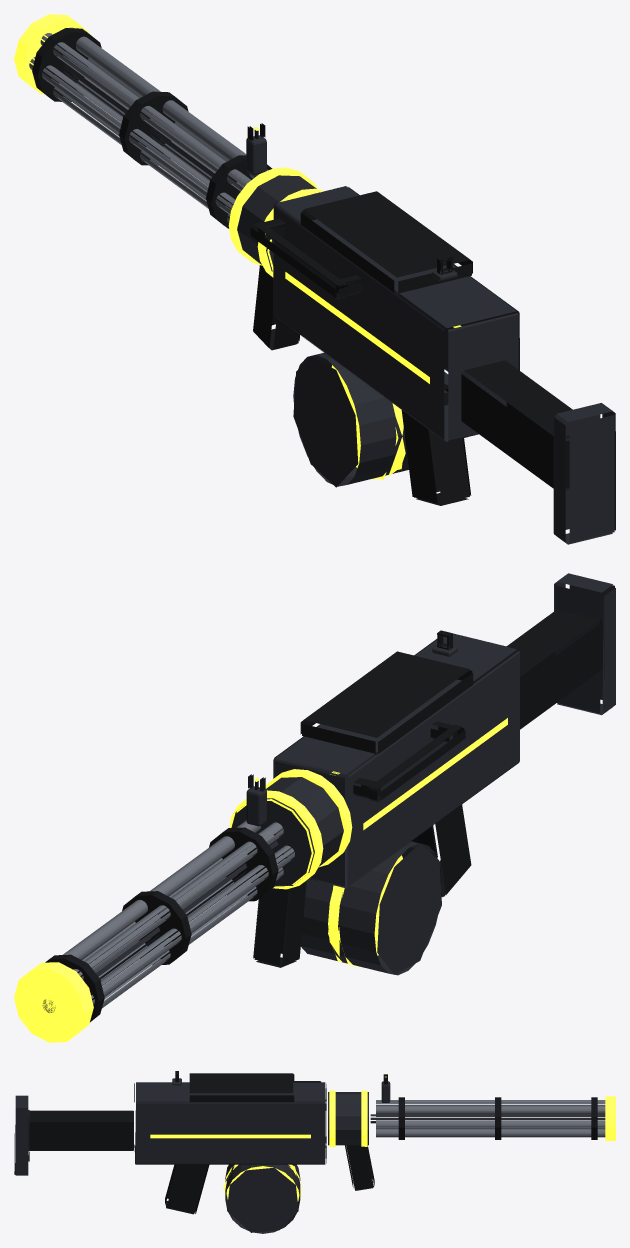
The model's file is spinlmg_lod.glb.
The picture shows the model from 3 angles, top to bottom: view 1: azimuth 30°, elevation 25°; view 2: azimuth 150°, elevation 25°; view 3: azimuth 270°, elevation 25°; orthographic projection. The views are drawn at different scales.
Parts seen in each view (by area): view 1: Body, Barrels, Magazine, IronSights; view 2: Body, Barrels, Magazine, IronSights; view 3: Body, Barrels, Magazine, IronSights.
Part boxes in pixels (x1=…): Body: x1=228, y1=167, x2=615, y2=544; Barrels: x1=14, y1=14, x2=272, y2=228; Magazine: x1=293, y1=352, x2=408, y2=487; IronSights: x1=246, y1=123, x2=457, y2=281; Body: x1=229, y1=573, x2=615, y2=967; Barrels: x1=14, y1=820, x2=294, y2=1042; Magazine: x1=301, y1=841, x2=441, y2=975; IronSights: x1=246, y1=630, x2=457, y2=826; Body: x1=14, y1=1073, x2=374, y2=1214; Barrels: x1=370, y1=1096, x2=615, y2=1140; Magazine: x1=223, y1=1164, x2=301, y2=1233; IronSights: x1=172, y1=1071, x2=390, y2=1102.
Size of the model in its own units: 0.131 by 0.3143 by 1.12.
